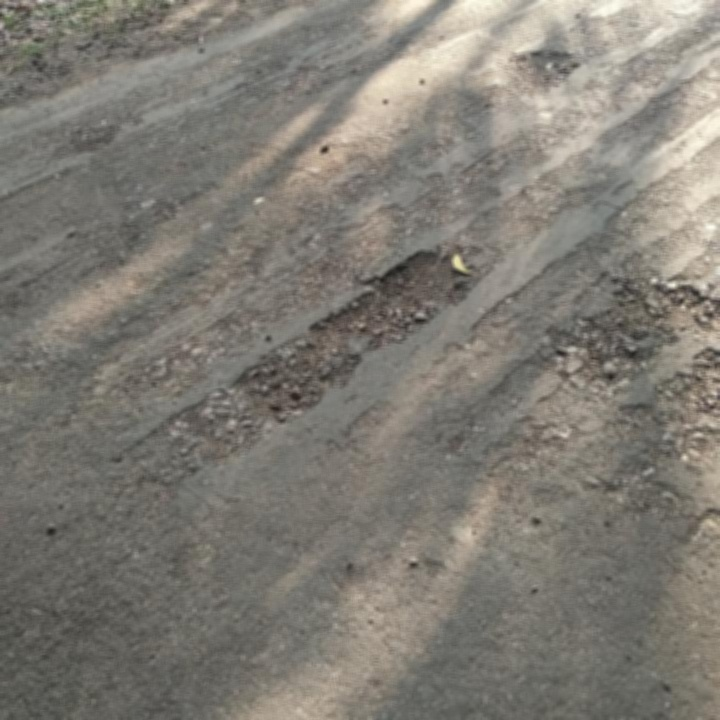pothole: (233, 241, 491, 424), (545, 271, 718, 393), (651, 343, 718, 418), (504, 42, 584, 99)
